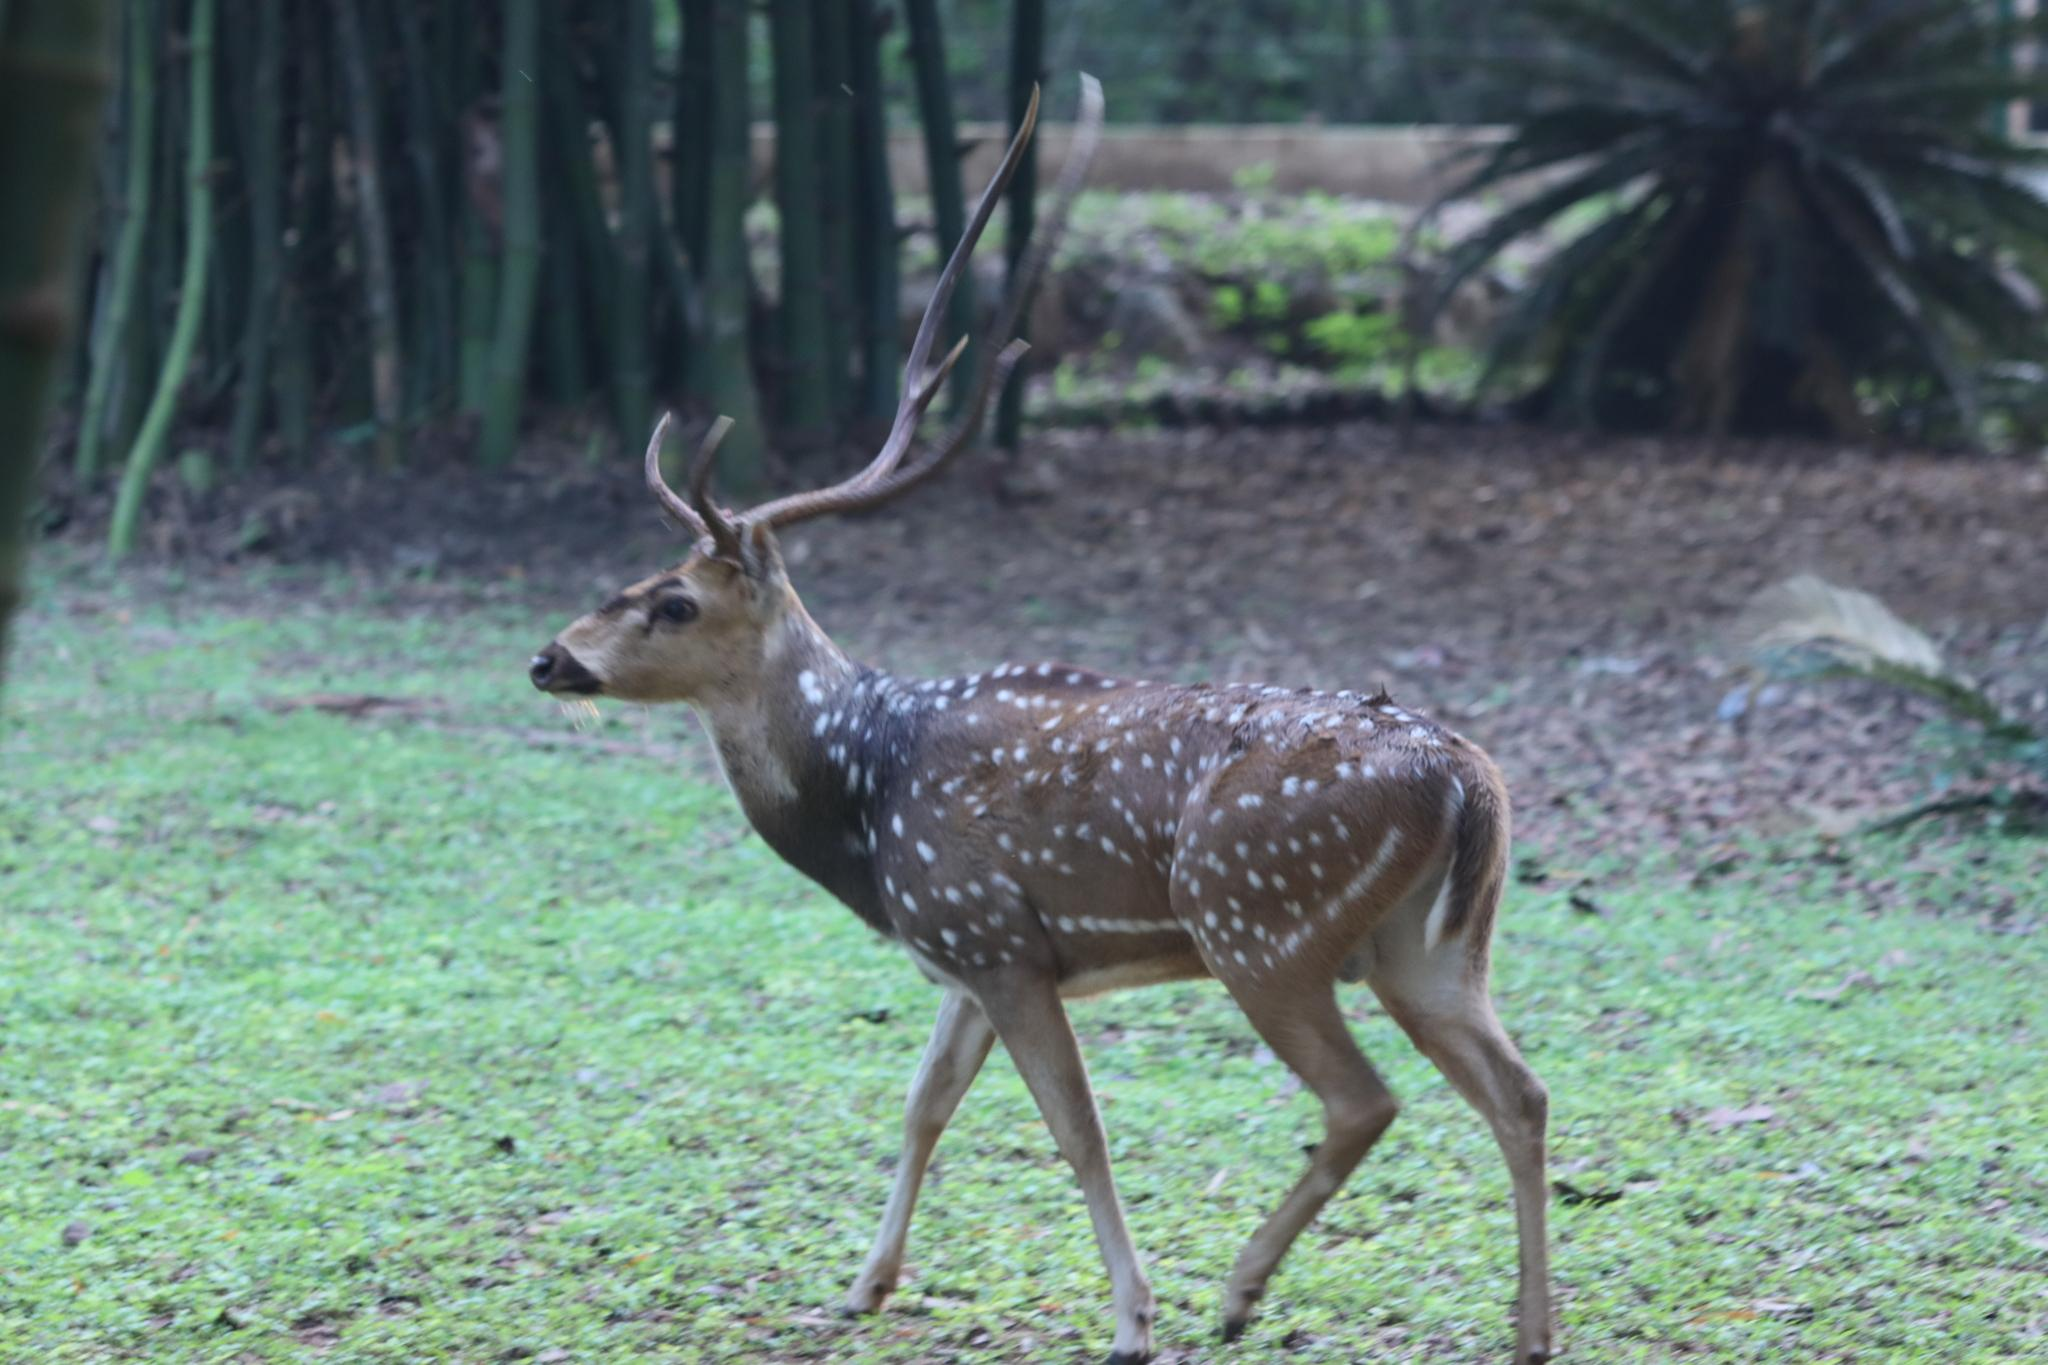Deer: (528, 73, 1552, 1363)
